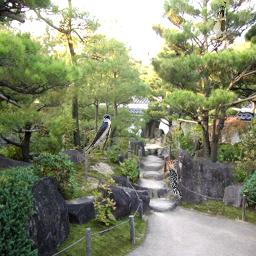Cuckoo: (212, 0, 226, 40)
Swallow: (86, 114, 111, 154)
Woodpecker: (168, 159, 182, 199)
